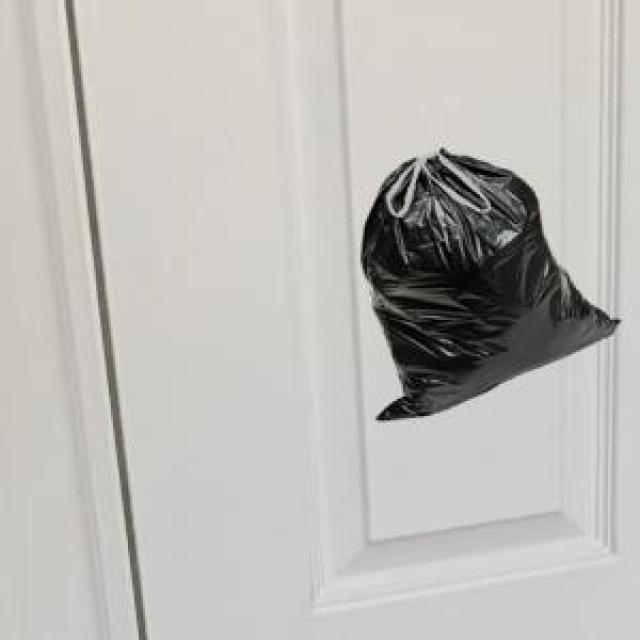miscellaneous trash: (358, 145, 617, 416)
